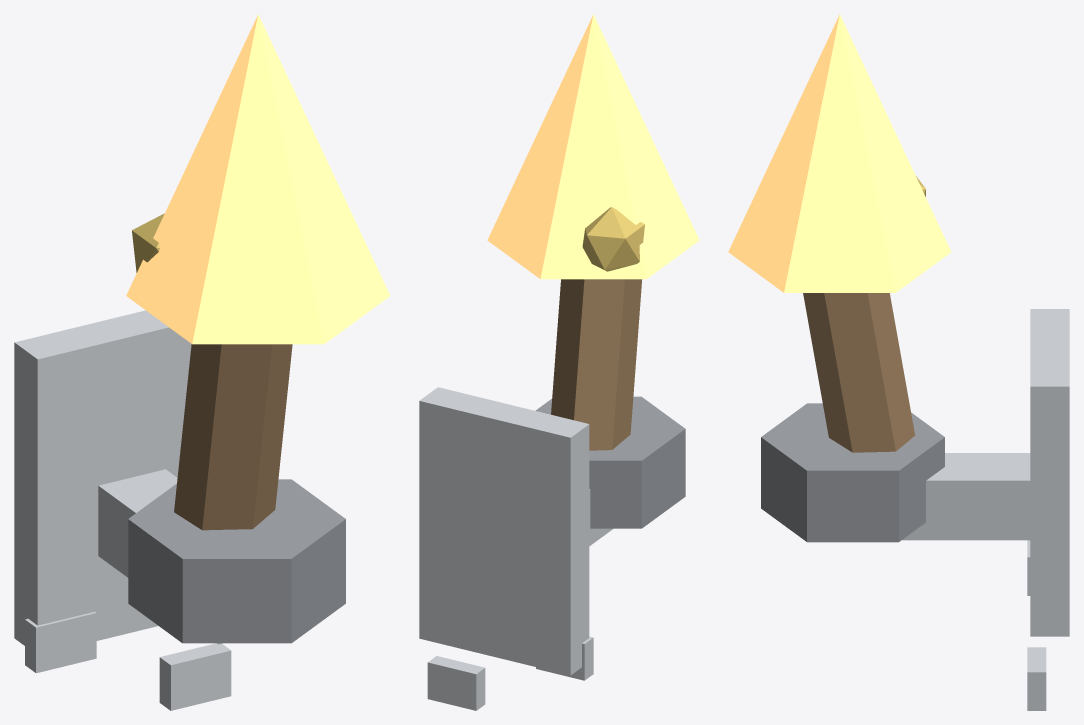
Rendered from torch_sconce.glb.
3 views of the same model, side by side, from view 1: azimuth 30°, elevation 25°; view 2: azimuth 150°, elevation 25°; view 3: azimuth 270°, elevation 25° (orthographic). The views are drawn at different scales.
Parts seen in each view (by area): view 1: flame, wall_plate, cup, torch, chain_1, bracket, chain_0, ember; view 2: wall_plate, flame, torch, cup, ember, chain_1, chain_0; view 3: flame, cup, torch, wall_plate, bracket, chain_1.
Part boxes in pixels (x1=…): flame: x1=126, y1=14, x2=390, y2=344; wall_plate: x1=14, y1=310, x2=191, y2=645; cup: x1=128, y1=479, x2=345, y2=643; torch: x1=174, y1=344, x2=292, y2=530; chain_1: x1=159, y1=643, x2=231, y2=710; bracket: x1=98, y1=469, x2=222, y2=644; chain_0: x1=25, y1=611, x2=96, y2=673; ember: x1=132, y1=213, x2=164, y2=272; wall_plate: x1=419, y1=387, x2=589, y2=675; flame: x1=487, y1=14, x2=699, y2=279; torch: x1=551, y1=279, x2=641, y2=450; cup: x1=535, y1=396, x2=685, y2=528; ember: x1=582, y1=207, x2=644, y2=271; chain_1: x1=427, y1=656, x2=485, y2=710; chain_0: x1=536, y1=636, x2=593, y2=680; flame: x1=728, y1=14, x2=951, y2=292; cup: x1=761, y1=403, x2=944, y2=542; torch: x1=803, y1=293, x2=915, y2=452; wall_plate: x1=1030, y1=309, x2=1069, y2=636; bracket: x1=902, y1=453, x2=1030, y2=540; chain_1: x1=1027, y1=647, x2=1046, y2=710.
Bounding box in the file's own units: 0.3122 × 1.11 × 0.52.
